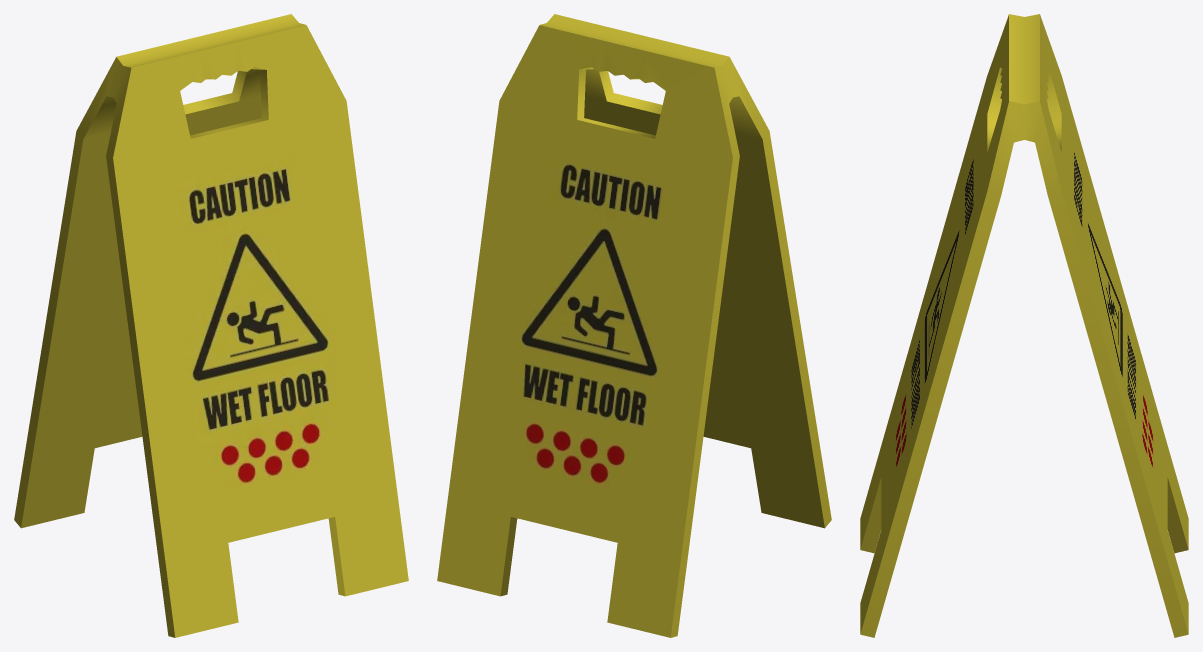
File: WetFloorSign_01.glb
3 renders of one model, left to right at view 1: azimuth 30°, elevation 25°; view 2: azimuth 150°, elevation 25°; view 3: azimuth 270°, elevation 25°, orthographic.
Parts seen in each view (by area): view 1: WetFloorSign_01; view 2: WetFloorSign_01; view 3: WetFloorSign_01.
Boxes of the visible parts, x1=… form: WetFloorSign_01: x1=14, y1=14, x2=408, y2=637; WetFloorSign_01: x1=437, y1=14, x2=831, y2=637; WetFloorSign_01: x1=860, y1=14, x2=1188, y2=637.
Size of the model in its own units: 0.3 by 0.6295 by 0.3585.
1 material, 1 textured.
